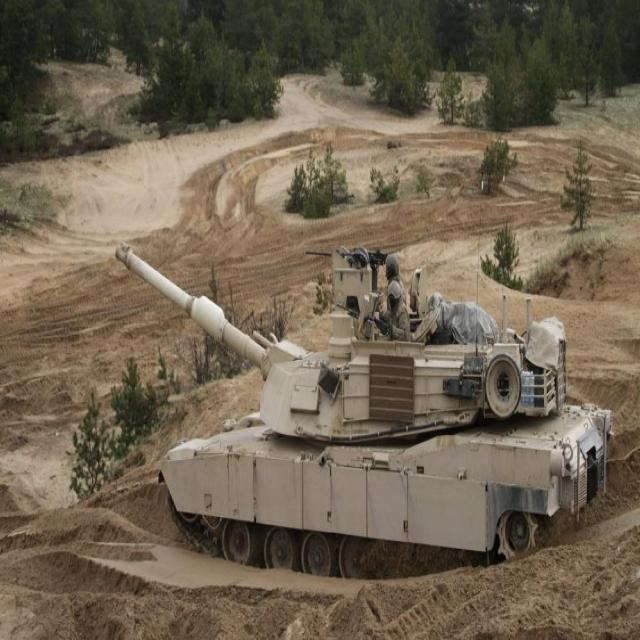Tanks: (122, 241, 562, 565)
